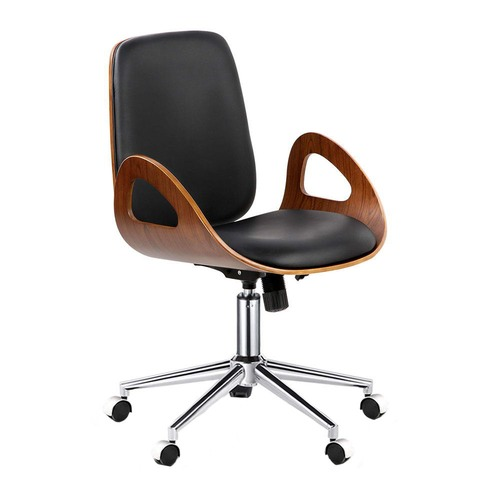chairs: (101, 30, 397, 469)
